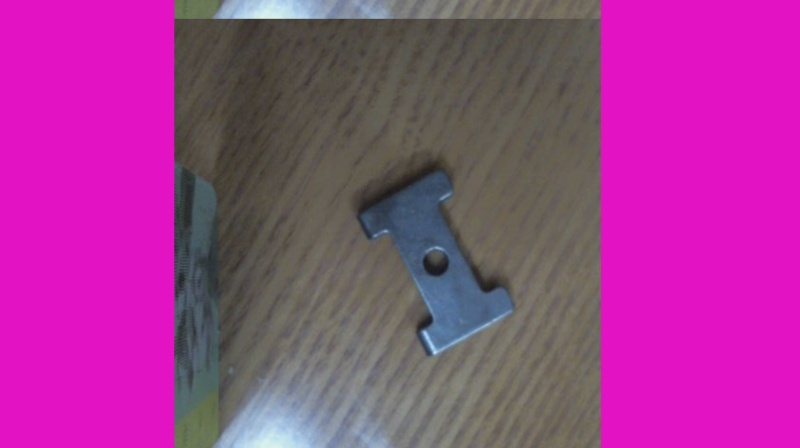O002: (355, 167, 513, 357)
